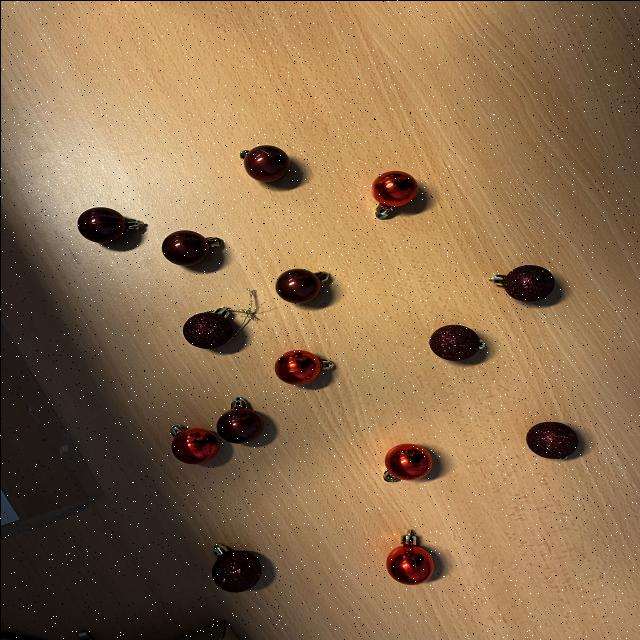glitter-bauble: (201, 541, 266, 595), (483, 260, 558, 306), (180, 302, 239, 352), (522, 417, 584, 462), (425, 320, 487, 362), (486, 264, 553, 300), (182, 306, 232, 348), (428, 323, 484, 360), (525, 420, 577, 458)
glossy-bauble: (382, 527, 439, 589), (366, 166, 421, 222), (271, 347, 339, 387), (378, 438, 437, 484), (371, 170, 418, 219), (168, 424, 220, 466), (274, 349, 333, 384), (382, 442, 432, 481), (170, 423, 218, 463)
wine-red-bauble: (155, 224, 228, 270), (71, 202, 147, 246), (270, 264, 334, 306), (214, 395, 266, 445), (236, 142, 294, 184), (77, 206, 144, 242), (161, 229, 222, 265), (215, 396, 262, 442), (274, 266, 328, 303), (242, 144, 289, 181)
